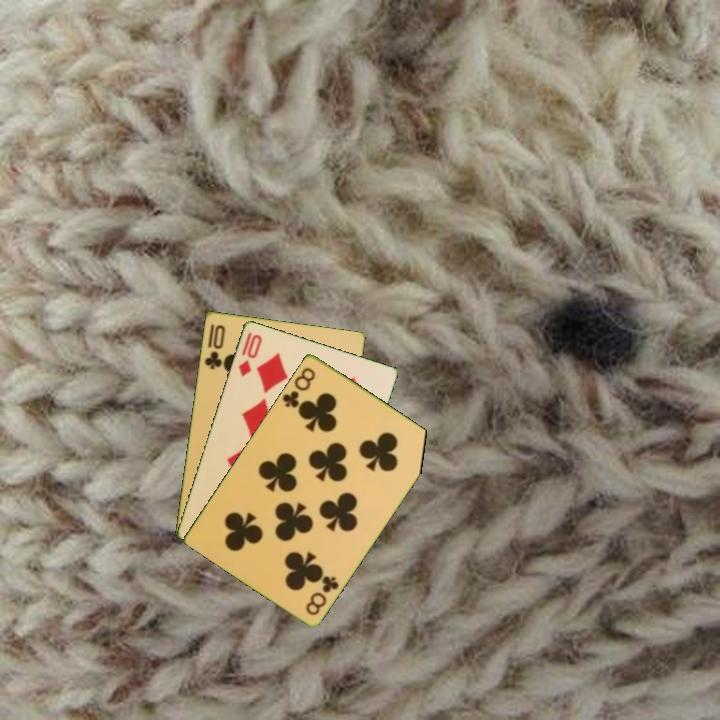10c: (201, 321, 228, 372)
10d: (235, 330, 265, 379)
8c: (279, 363, 318, 412), (302, 572, 342, 618)
